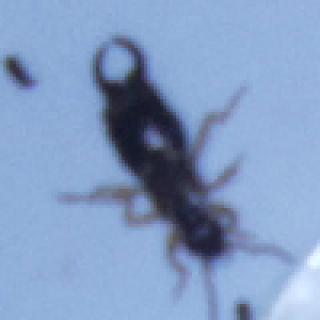earwig: (55, 32, 304, 320)
